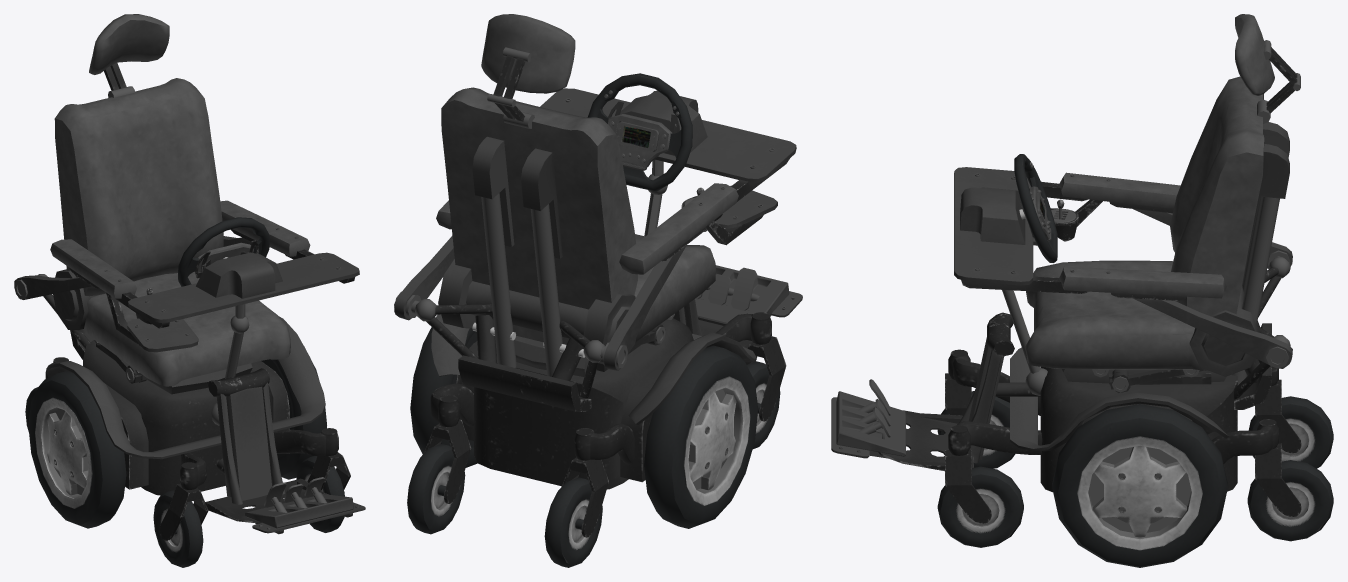
Rendered from WheelChair_GR.fbx.
3 renders of one model, left to right at view 1: azimuth 30°, elevation 25°; view 2: azimuth 150°, elevation 25°; view 3: azimuth 270°, elevation 25°, orthographic. The views are drawn at different scales.
Visible parts, largest first — view 1: Chair_GR, WheelR_GR, Wheel_GR, SpinnywheelFrontR_GR, WheelL_GR, SmallWheelHolder_GR.001, SpinnywheelFrontL_GR, SmallWheelHolder_GR.002; view 2: Chair_GR, WheelR_GR, Wheel_GR, SpinnywheelBackR_GR, SpinnywheelBackL_GR, WheelL_GR, SmallWheelHolder_GR.004, SmallWheelHolder_GR.003, SmallWheelHolder_GR.001, SpinnywheelFrontR_GR, Gas_GR, Brake_GR; view 3: Chair_GR, WheelL_GR, SpinnywheelFrontL_GR, SpinnywheelBackL_GR, SpinnywheelBackR_GR, Wheel_GR, SmallWheelHolder_GR.002, SmallWheelHolder_GR.004, SmallWheelHolder_GR.003, SpinnywheelFrontR_GR, SmallWheelHolder_GR.001.
Boxes of the visible parts, box(x1,y1,x2,y2) form: Chair_GR: box(14, 14, 365, 534); WheelR_GR: box(28, 371, 126, 528); Wheel_GR: box(178, 217, 269, 286); SpinnywheelFrontR_GR: box(153, 490, 203, 567); WheelL_GR: box(261, 346, 326, 479); SmallWheelHolder_GR.001: box(159, 483, 208, 540); SpinnywheelFrontL_GR: box(296, 456, 344, 532); SmallWheelHolder_GR.002: box(307, 452, 350, 490); Chair_GR: box(394, 14, 802, 489); WheelR_GR: box(644, 345, 758, 528); Wheel_GR: box(587, 73, 692, 191); SpinnywheelBackR_GR: box(544, 477, 602, 567); SpinnywheelBackL_GR: box(407, 444, 465, 534); WheelL_GR: box(410, 327, 477, 467); SmallWheelHolder_GR.004: box(424, 419, 471, 503); SmallWheelHolder_GR.003: box(561, 457, 608, 537); SmallWheelHolder_GR.001: box(745, 336, 786, 421); SpinnywheelFrontR_GR: box(747, 361, 780, 448); Gas_GR: box(731, 267, 759, 310); Brake_GR: box(708, 274, 734, 305); Chair_GR: box(831, 14, 1300, 492); WheelL_GR: box(1052, 404, 1227, 567); SpinnywheelFrontL_GR: box(937, 466, 1023, 547); SpinnywheelBackL_GR: box(1247, 460, 1333, 541); SpinnywheelBackR_GR: box(1248, 396, 1333, 468); Wheel_GR: box(1014, 154, 1057, 262); SmallWheelHolder_GR.002: box(945, 450, 991, 523); SmallWheelHolder_GR.004: box(1255, 443, 1301, 517); SmallWheelHolder_GR.003: box(1255, 379, 1301, 453); SpinnywheelFrontR_GR: box(937, 391, 1015, 468); SmallWheelHolder_GR.001: box(945, 373, 971, 415).
Size of the model in its own units: 216 by 398 by 369.
